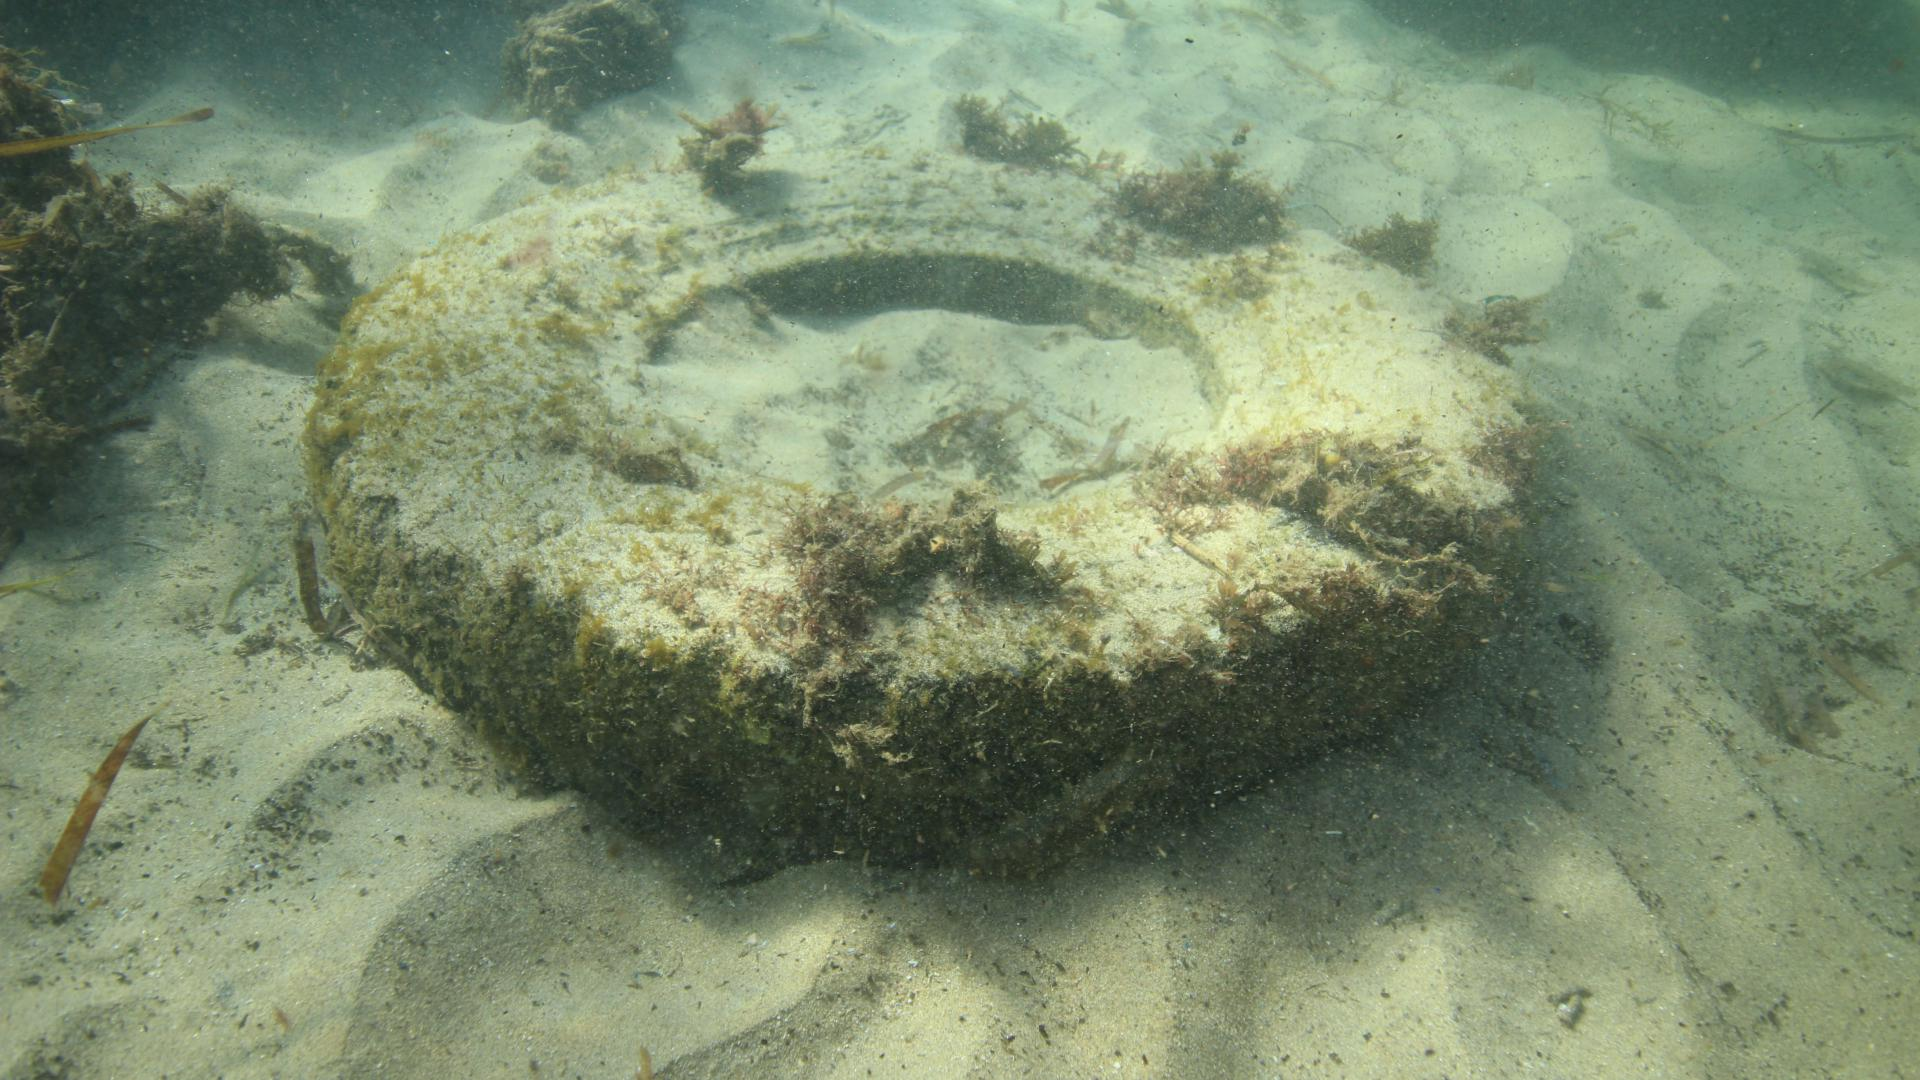tire: (309, 145, 1534, 877)
